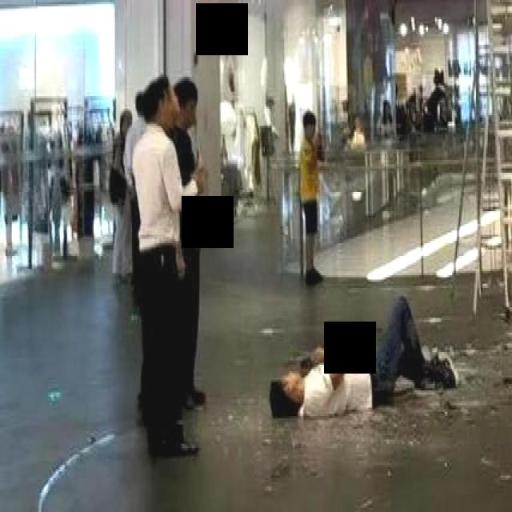Fall: (258, 282, 466, 425)
